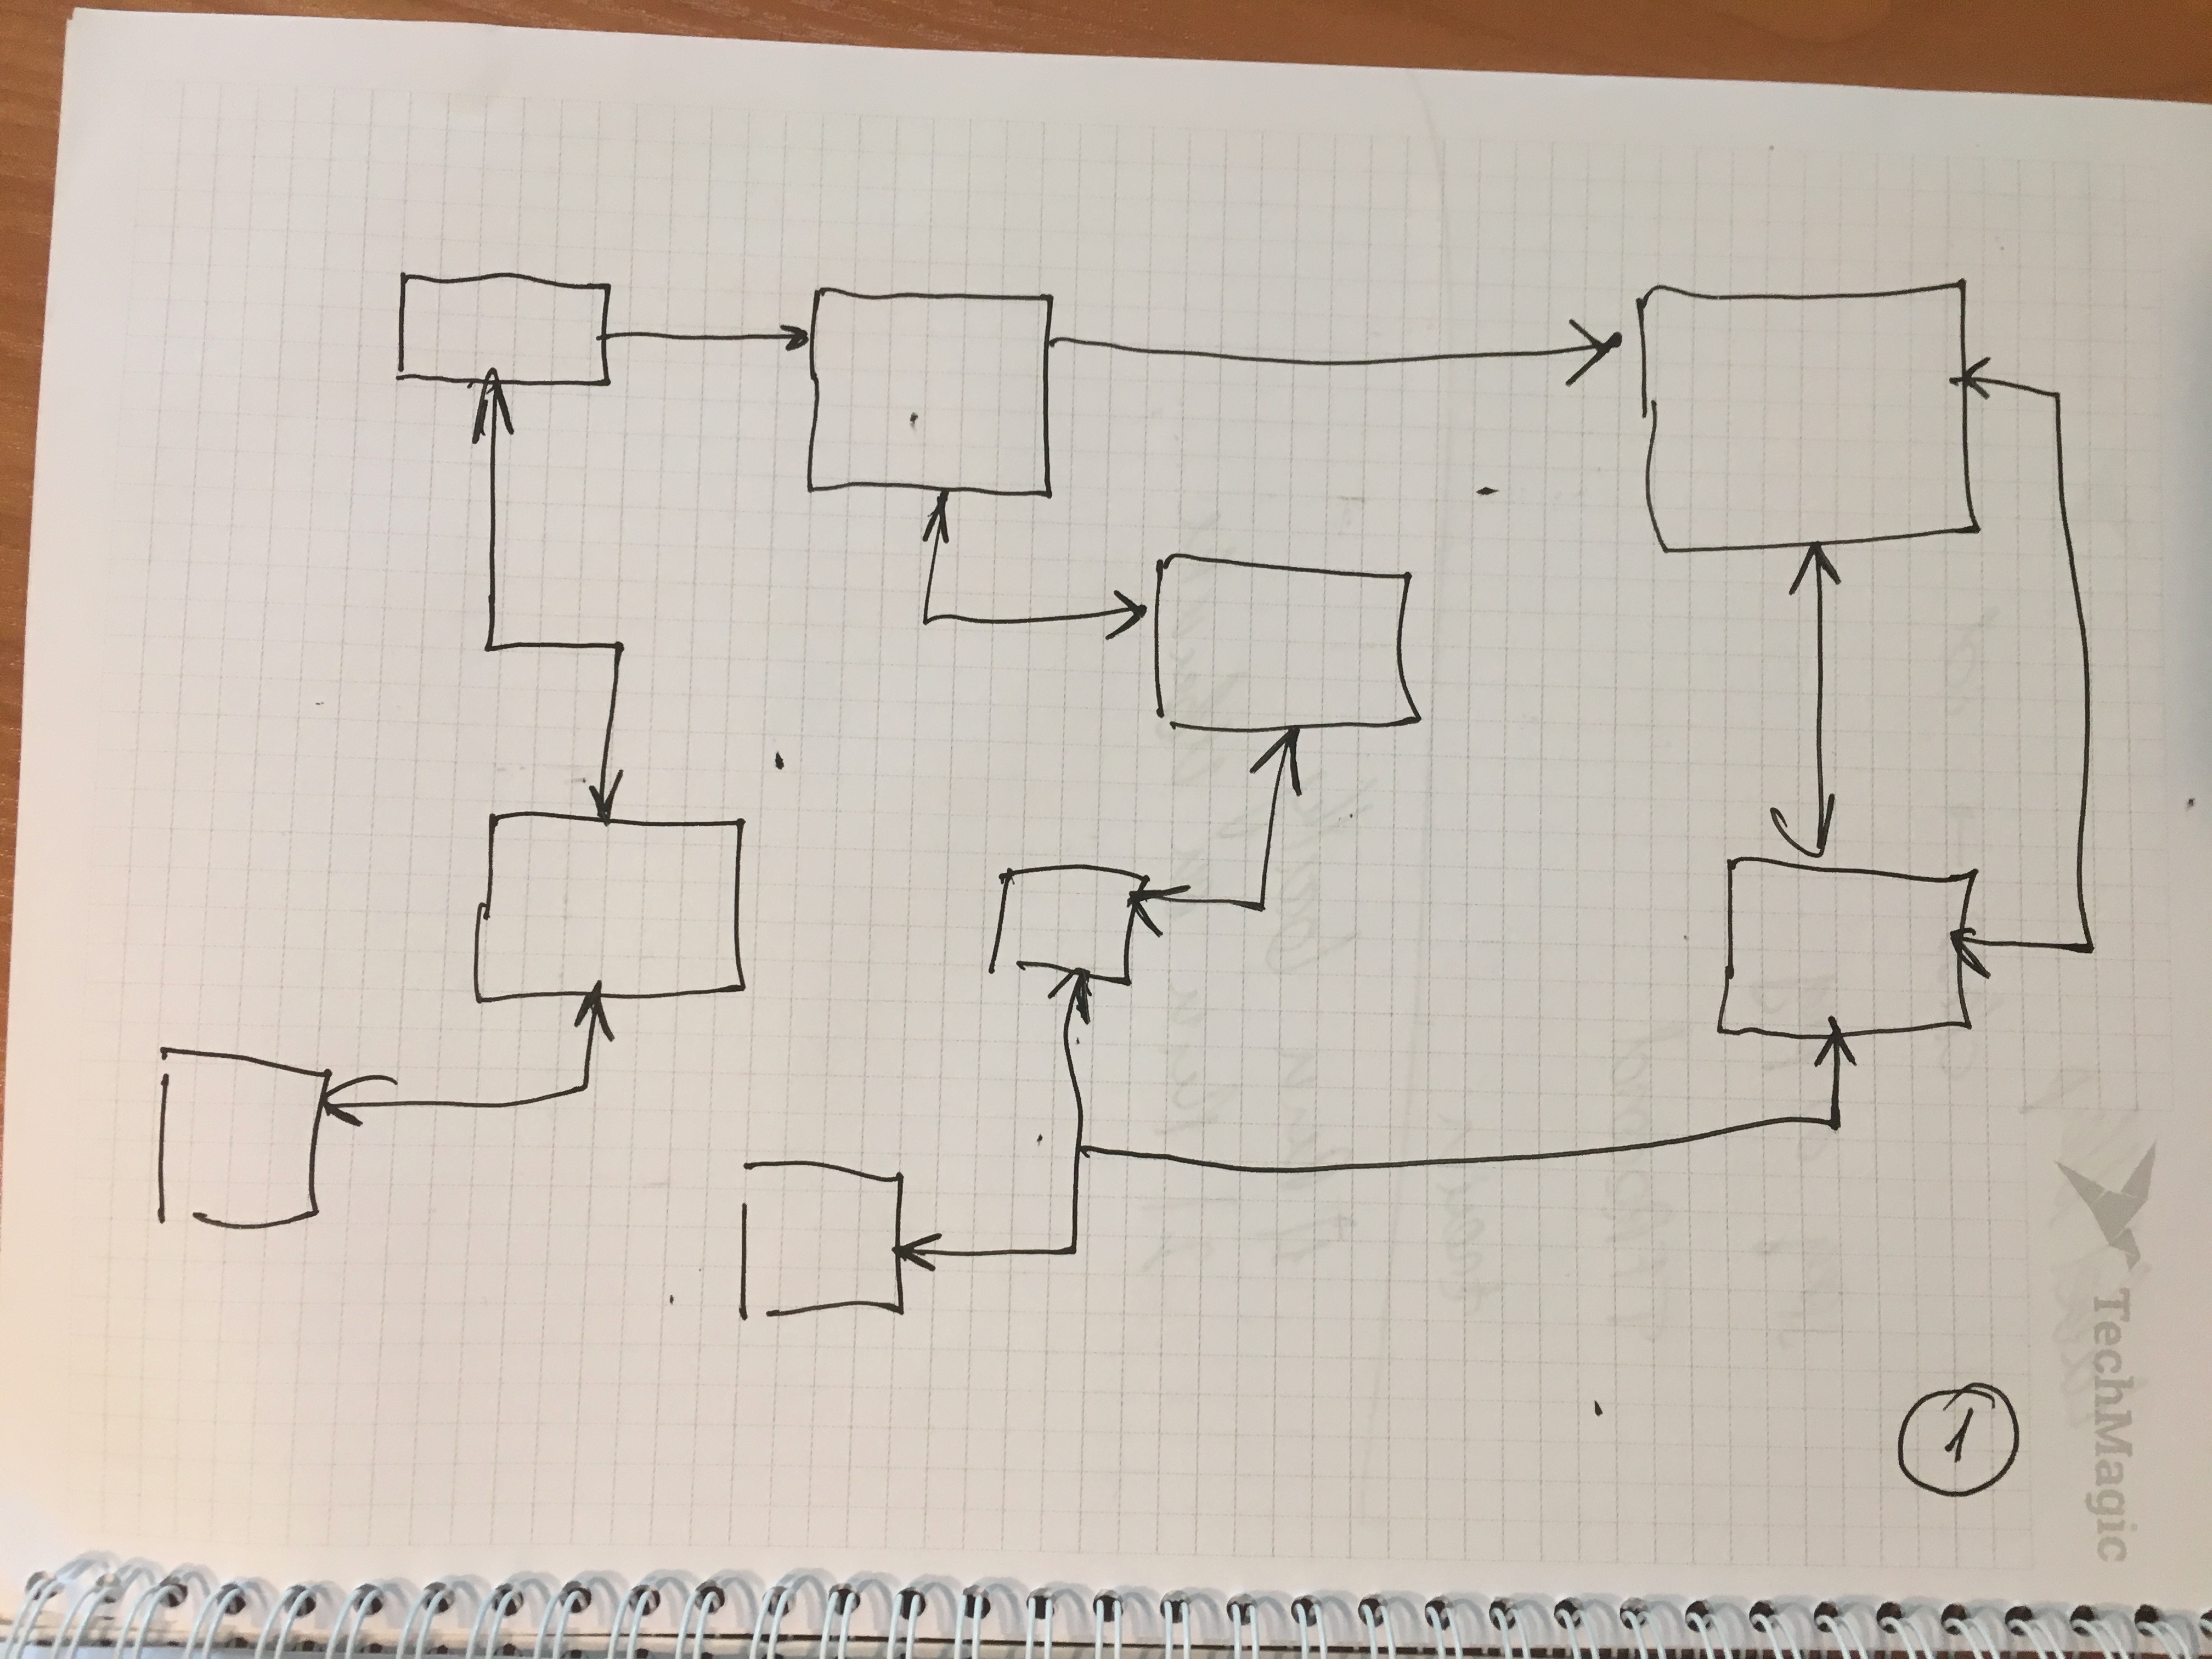arrow: (1766, 782, 1857, 892), (1545, 315, 1637, 392), (1791, 519, 1851, 633), (554, 951, 624, 1049), (465, 359, 533, 450), (1252, 709, 1310, 812), (1096, 587, 1176, 652), (310, 1077, 404, 1131), (1939, 343, 2001, 423), (575, 767, 639, 843), (1937, 918, 1996, 997), (1118, 880, 1200, 934), (1808, 1014, 1862, 1093), (918, 472, 963, 556), (881, 1234, 958, 1281), (1059, 958, 1099, 1044), (770, 315, 831, 362)
